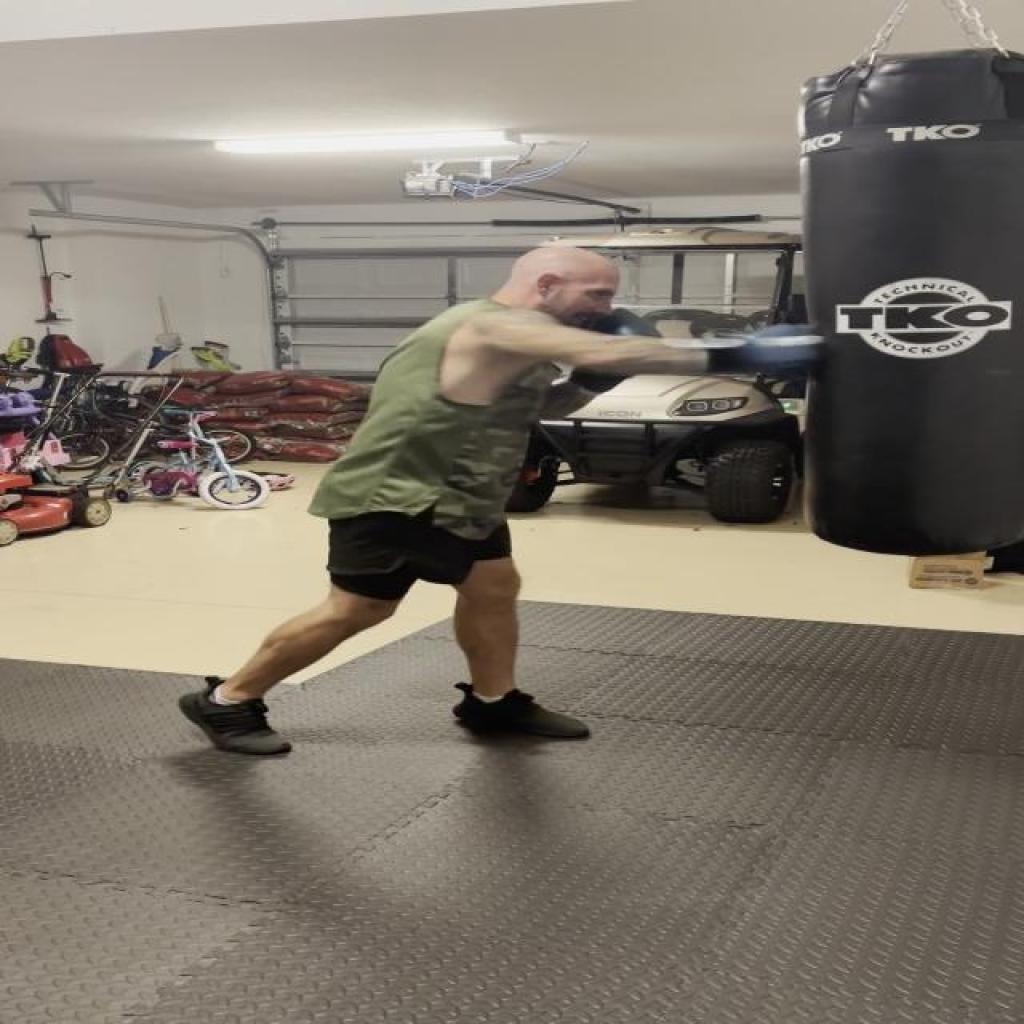bag: (790, 43, 1024, 562)
cross: (358, 226, 845, 420)
